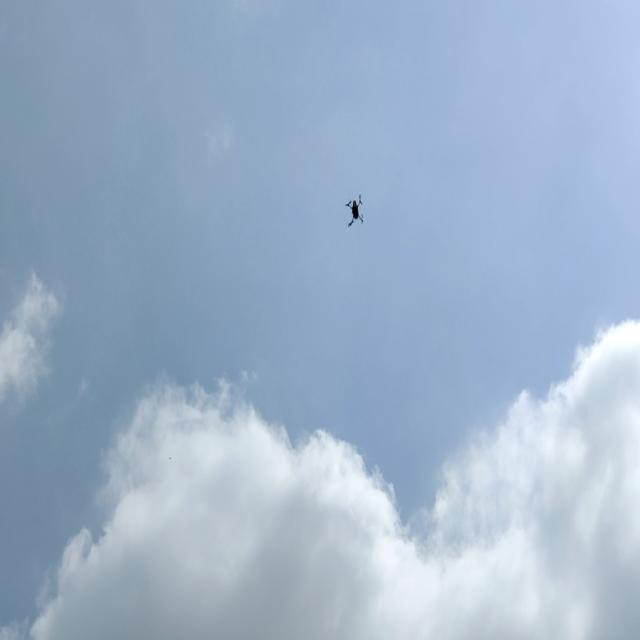drone: (342, 191, 371, 235)
